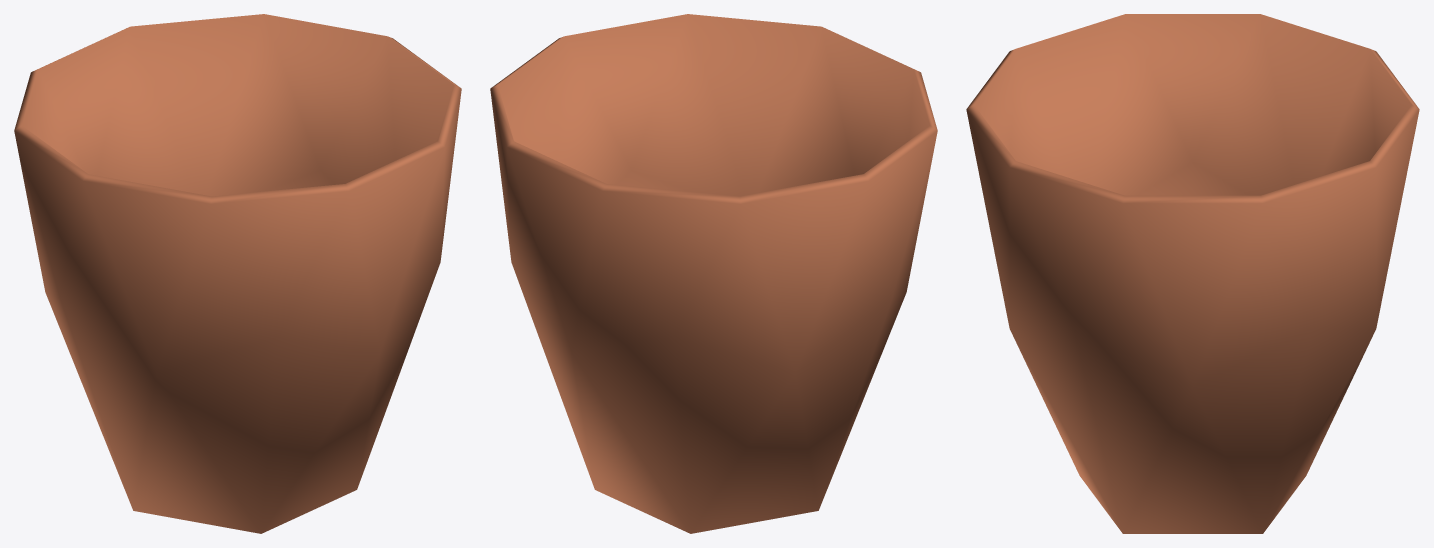
The model's file is glass-type-01.obj.
3 views of the same model, side by side, from view 1: azimuth 30°, elevation 25°; view 2: azimuth 150°, elevation 25°; view 3: azimuth 270°, elevation 25° (orthographic).
Parts seen in each view (by area): view 1: glass-type-01; view 2: glass-type-01; view 3: glass-type-01.
Part boxes in pixels (box(x1,y1,x2,y2)): glass-type-01: box(14, 14, 461, 533); glass-type-01: box(490, 14, 937, 533); glass-type-01: box(966, 14, 1419, 533).
Bounding box in the file's own units: 0.0491 × 0.0485 × 0.05.
